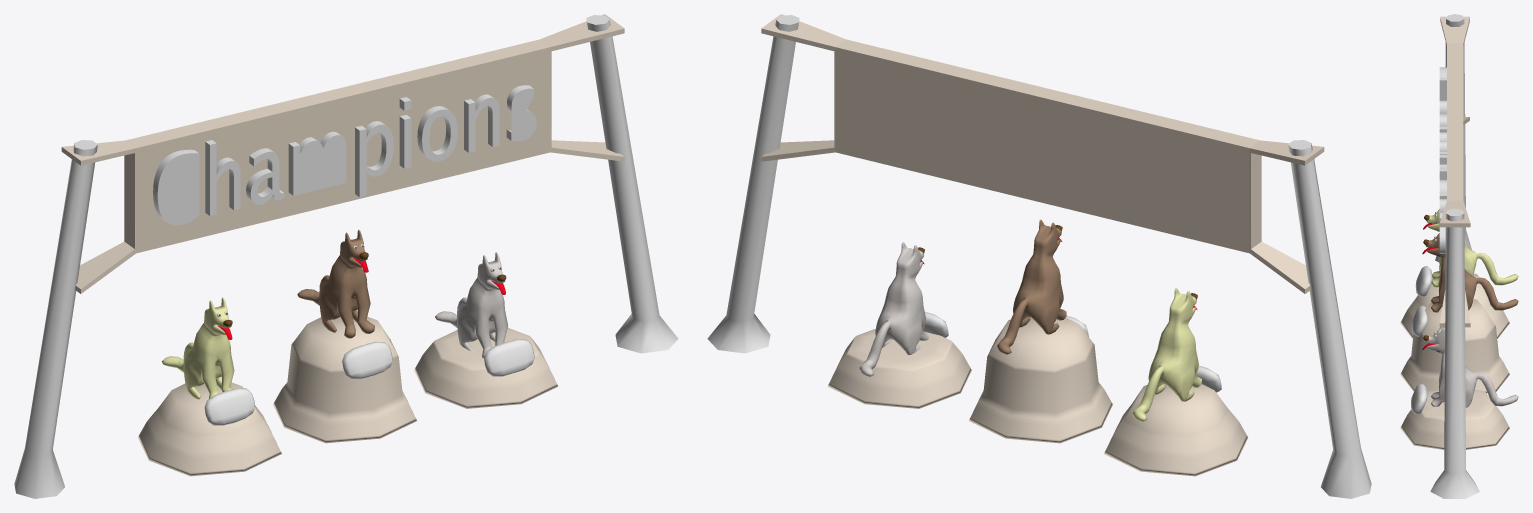
Rendered from Champions.fbx.
3 renders of one model, left to right at view 1: azimuth 30°, elevation 25°; view 2: azimuth 150°, elevation 25°; view 3: azimuth 270°, elevation 25°, orthographic. The views are drawn at different scales.
Parts seen in each view (by area): view 1: pCube7, typeMesh1, pCube6, pCylinder1, pCylinder2, pCube1, pCube4, Dog_s1:pCube1, Dog_s:pCube1, Dog_s2:pCube1, pCube2, pCube3 (+1 smaller); view 2: pCube7, pCube6, pCylinder1, pCylinder2, pCube1, pCube4, Dog_s1:pCube1, Dog_s:pCube1, Dog_s2:pCube1; view 3: pCylinder2, pCube6, pCube7, pCube4, Dog_s2:pCube1, Dog_s1:pCube1, typeMesh1, pCube1, Dog_s:pCube1, pCylinder1, pCube3, pCube2 (+1 smaller).
Part boxes in pixels (bbox=[...]): pCube7: bbox=[61, 14, 624, 293]; typeMesh1: bbox=[153, 85, 536, 225]; pCube6: bbox=[273, 316, 416, 443]; pCylinder1: bbox=[14, 140, 97, 498]; pCylinder2: bbox=[586, 15, 678, 353]; pCube1: bbox=[137, 382, 281, 476]; pCube4: bbox=[414, 328, 558, 408]; Dog_s1:pCube1: bbox=[297, 229, 374, 338]; Dog_s:pCube1: bbox=[161, 297, 234, 399]; Dog_s2:pCube1: bbox=[435, 252, 508, 358]; pCube2: bbox=[204, 388, 254, 425]; pCube3: bbox=[484, 339, 534, 376]; pCube7: bbox=[761, 14, 1324, 293]; pCube6: bbox=[969, 317, 1112, 443]; pCylinder1: bbox=[1288, 140, 1371, 498]; pCylinder2: bbox=[707, 15, 799, 353]; pCube1: bbox=[1104, 384, 1248, 476]; pCube4: bbox=[827, 328, 971, 408]; Dog_s1:pCube1: bbox=[997, 219, 1066, 354]; Dog_s:pCube1: bbox=[1133, 287, 1201, 421]; Dog_s2:pCube1: bbox=[859, 242, 928, 376]; pCylinder2: bbox=[1430, 208, 1479, 498]; pCube6: bbox=[1400, 299, 1509, 393]; pCube7: bbox=[1439, 16, 1470, 327]; pCube4: bbox=[1400, 389, 1509, 449]; Dog_s2:pCube1: bbox=[1422, 327, 1518, 407]; Dog_s1:pCube1: bbox=[1422, 233, 1518, 312]; typeMesh1: bbox=[1439, 67, 1446, 253]; pCube1: bbox=[1400, 273, 1509, 338]; Dog_s:pCube1: bbox=[1423, 209, 1518, 287]; pCylinder1: bbox=[1435, 14, 1471, 262]; pCube3: bbox=[1411, 383, 1427, 414]; pCube2: bbox=[1415, 266, 1432, 297].
Size of the model in its own units: 35.57 by 17.27 by 7.15.
